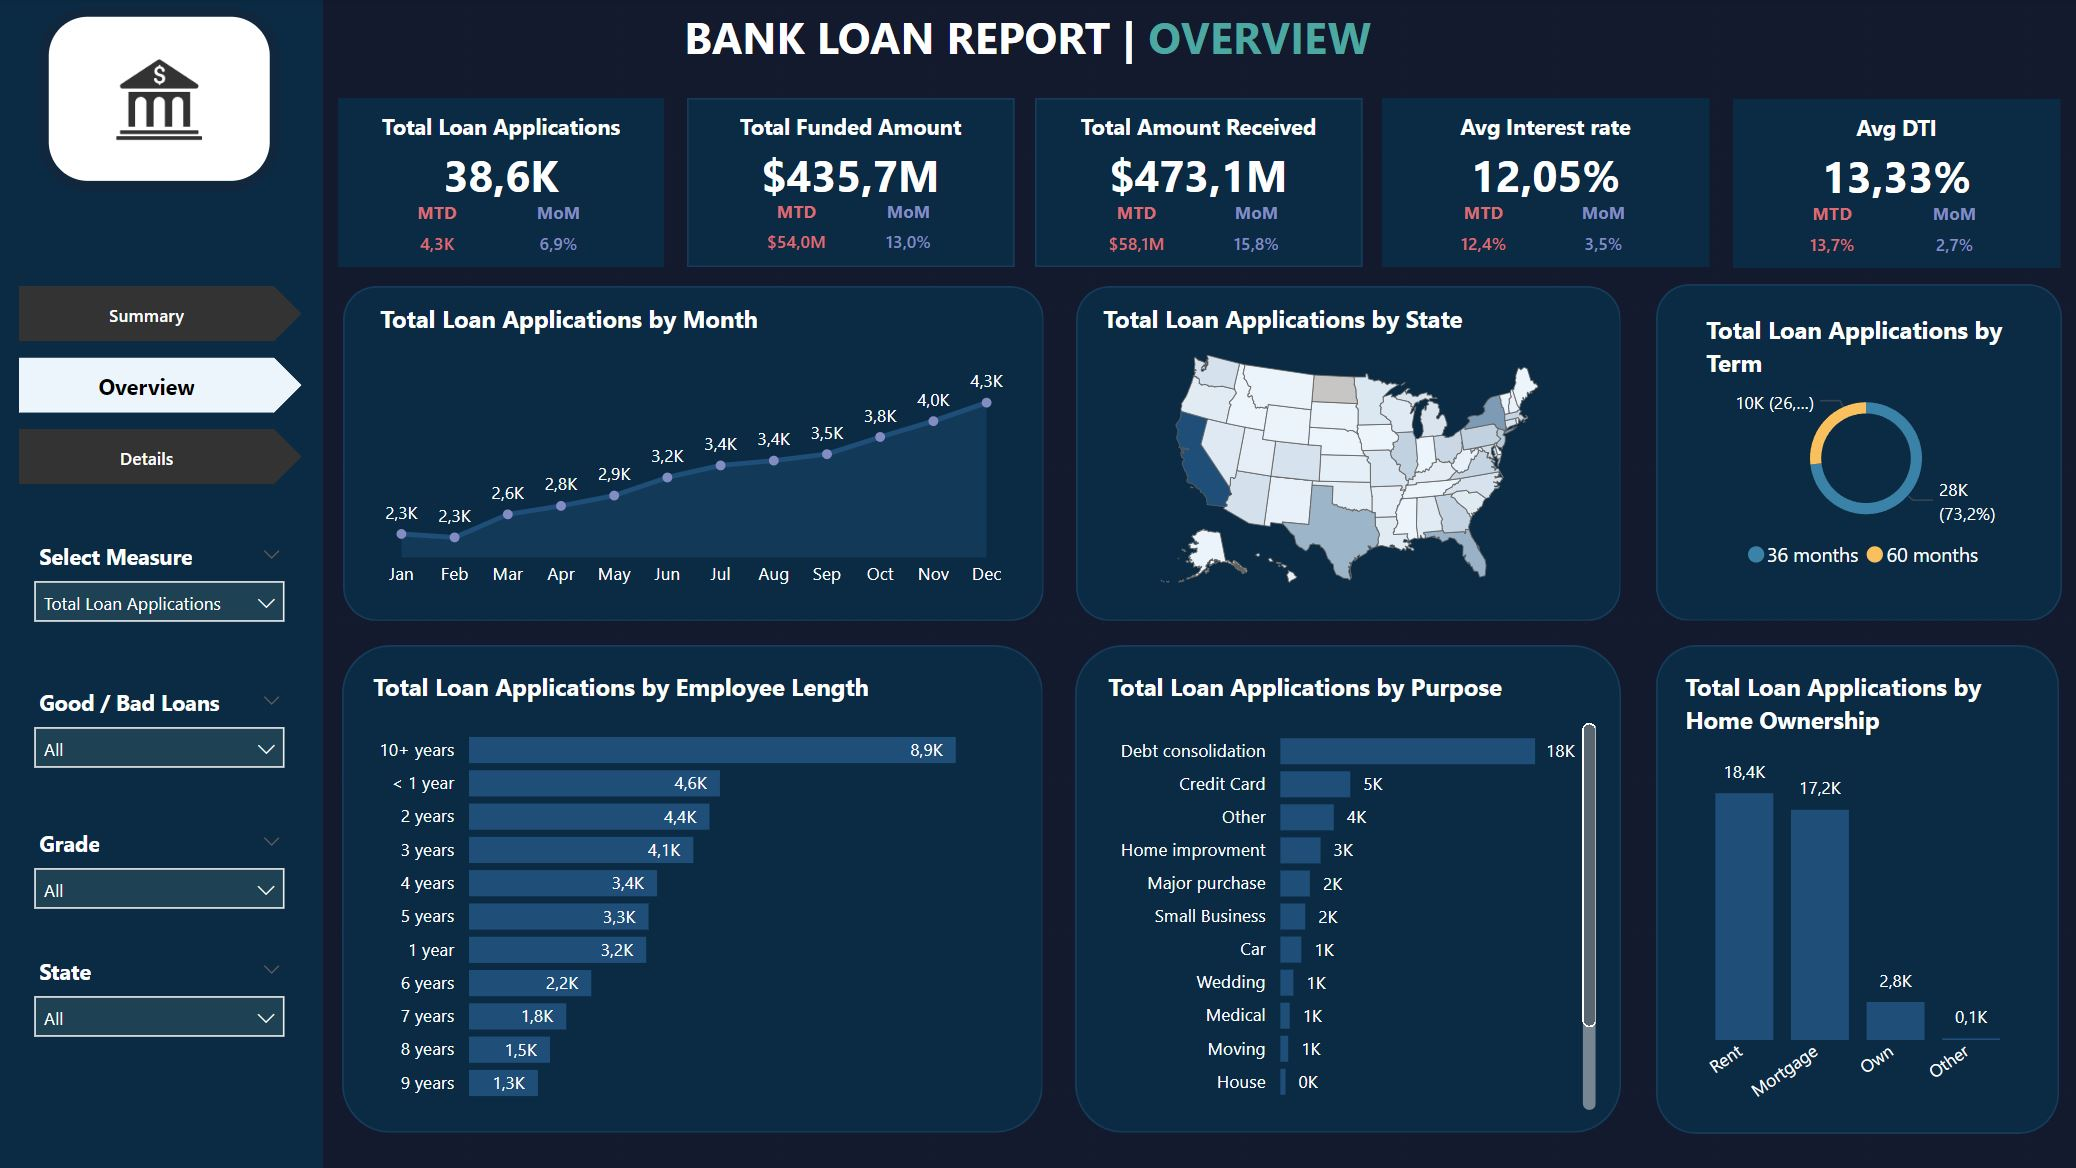

The page's visual inventory and layout, read from the dashboard file:
{"tool":"powerbi","page":{"name":"Overview","canvas":[1280,720],"ordinal":1},"visuals":[{"type":"shape","title":"Total Loan Applications","box":[209.4,61.2,200.7,104.1],"z":0,"group":"g5"},{"type":"shape","title":"Total Loan Applications","box":[423.8,61.2,201.6,104.1],"z":0,"group":"g1"},{"type":"shape","title":"Total Loan Applications","box":[637.9,61.2,201.6,104.1],"z":0,"group":"g2"},{"type":"shape","title":"Total Loan Applications","box":[851.9,61.2,201.6,104.1],"z":0,"group":"g3"},{"type":"shape","title":"Total Loan Applications","box":[1067.7,61.4,201.6,104.1],"z":0,"group":"g4"},{"type":"shape","box":[212.3,176.6,431.4,206.2],"z":0},{"type":"shape","box":[0,0,200,720.6],"z":1000},{"type":"card","title":"Total Loan Applications","fields":{"Values":["bank_loan_data.Total Loan Applications"]},"box":[209.1,69.8,200.6,68.3],"z":1000,"group":"g5"},{"type":"card","title":"Total Funded Amount","fields":{"Values":["bank_loan_data.Total_Funded_Amount"]},"box":[423.9,69.8,201.2,68.3],"z":1000,"group":"g1"},{"type":"card","title":"Total Amount Received","fields":{"Values":["bank_loan_data.Total Amount Received"]},"box":[637.9,69.8,201.2,68.3],"z":1000,"group":"g2"},{"type":"card","title":"Avg Interest rate","fields":{"Values":["bank_loan_data.Average interest Rate"]},"box":[851.9,69.8,201.2,68.3],"z":1000,"group":"g3"},{"type":"card","title":"Avg DTI","fields":{"Values":["bank_loan_data.Average DTI"]},"box":[1067.8,69.9,201.2,68.3],"z":1000,"group":"g4"},{"type":"textbox","title":"BANK LOAN REPORT | SUMMARY","box":[417.2,0,445.5,46.8],"z":2000},{"type":"card","title":"MTD","fields":{"Values":["bank_loan_data.MTD Funded Amount"]},"box":[466.1,122.5,50,39.7],"z":2000,"group":"g1"},{"type":"card","title":"MTD","fields":{"Values":["bank_loan_data.MTD Loan Applications"]},"box":[249.3,123.3,41.9,38.7],"z":2000,"group":"g5"},{"type":"card","title":"MTD","fields":{"Values":["bank_loan_data.MTD Total Amount Received"]},"box":[678.1,123.3,45,38.7],"z":2000,"group":"g2"},{"type":"card","title":"MTD","fields":{"Values":["bank_loan_data.MTD Avg Interest rate"]},"box":[892.1,123.3,45,38.7],"z":2000,"group":"g3"},{"type":"card","title":"MTD","fields":{"Values":["bank_loan_data.MTD Avg DTI"]},"box":[1107.9,123.5,42.1,38.7],"z":2000,"group":"g4"},{"type":"group","id":"g1","title":"Total Loan Applications ","box":[423.8,61.2,201.6,104.1],"z":3000},{"type":"card","title":"MoM","fields":{"Values":["bank_loan_data.MoM Total Funded Amount"]},"box":[537.6,122.5,45,39.7],"z":3000,"group":"g1"},{"type":"card","title":"MoM","fields":{"Values":["bank_loan_data.MoM Loan Applications"]},"box":[322.6,123.4,45,38.7],"z":3000,"group":"g5"},{"type":"card","title":"MoM","fields":{"Values":["bank_loan_data.MoM Total Amount Received"]},"box":[751.7,123.4,45,38.7],"z":3000,"group":"g2"},{"type":"card","title":"MoM","fields":{"Values":["bank_loan_data.MoM Avg Interest Rate"]},"box":[965.7,123.4,45,38.7],"z":3000,"group":"g3"},{"type":"card","title":"MoM","fields":{"Values":["bank_loan_data.MoM Avg DTI"]},"box":[1181.5,123.6,45,38.7],"z":3000,"group":"g4"},{"type":"group","id":"g2","title":"Total Loan Applications ","box":[637.9,61.2,201.6,104.1],"z":4000},{"type":"group","id":"g3","title":"Total Loan Applications ","box":[851.9,61.2,201.6,104.1],"z":5000},{"type":"group","id":"g4","title":"Total Loan Applications ","box":[1067.7,61.4,201.6,104.1],"z":6000},{"type":"group","id":"g5","title":"Total Loan Applications ","box":[209.1,61.2,200.9,104.1],"z":7000},{"type":"slicer","fields":{"Values":["bank_loan_data.address_state"]},"box":[12.6,584.6,174.1,72.8],"z":8000},{"type":"slicer","fields":{"Values":["bank_loan_data.grade"]},"box":[12.6,505.8,174.1,72.8],"z":9000},{"type":"shape","box":[663.4,176.6,335.4,206.2],"z":11000},{"type":"shape","box":[1020.3,175.4,249.8,207.4],"z":12000},{"type":"areaChart","fields":{"Y":["bank_loan_data.Total Loan Applications"],"Category":["Date Table.Month"]},"box":[230.2,186.5,396.3,185.2],"z":13000},{"type":"shapeMap","title":"Total Loan Applications by State","fields":{"Value":["bank_loan_data.Total Loan Applications"],"Category":["bank_loan_data.address_state"]},"box":[675.1,186.5,313.2,185.2],"z":14000},{"type":"slicer","fields":{"Values":["Select Measure.Select Measure"]},"box":[12.3,329.2,174.2,62.2],"z":15000},{"type":"donutChart","title":"Total Loan Applications by Term","fields":{"Y":["bank_loan_data.Total Loan Applications"],"Category":["bank_loan_data.term"]},"box":[1046.2,193.2,206.8,166.8],"z":16000},{"type":"shape","box":[211.7,397.5,431.4,300.3],"z":17000},{"type":"shape","box":[662.8,397.5,336,300.3],"z":18000},{"type":"shape","box":[1020.3,397.5,248,300.9],"z":19000},{"type":"barChart","title":"Total Loan Applications by Employee Length","fields":{"Y":["bank_loan_data.Total Loan Applications"],"Category":["bank_loan_data.emp_length"]},"box":[225.8,412.9,389.5,275.7],"z":20000},{"type":"barChart","title":"Total Loan Applications by Purpose","fields":{"Y":["bank_loan_data.Total Loan Applications"],"Category":["bank_loan_data.Purpose - Caps"]},"box":[678.2,412.9,310.2,275.7],"z":21000},{"type":"columnChart","title":"Total Loan Applications by Home Ownership","fields":{"Y":["bank_loan_data.Total Loan Applications"],"Category":["bank_loan_data.home_ownership_GoodCaps"]},"box":[1033.2,412.9,224,275.7],"z":22000},{"type":"slicer","fields":{"Values":["bank_loan_data.Good Loan v Bad Loan"]},"box":[12.3,419.1,174.2,73.2],"z":23000},{"type":"image","box":[25.2,4.9,148.3,113.2],"z":23002},{"type":"pageNavigator","box":[12.9,176.6,174.2,122.5],"z":23003}]}

Visuals, with their boxes in screenshot pixels (x1, y1, x2, y2), scaled from the page's 1280x720 canvas onto the 2076x1168 screenshot:
"Total Loan Applications" shape: left=340, top=99, right=665, bottom=268
"Total Loan Applications" shape: left=687, top=99, right=1014, bottom=268
"Total Loan Applications" shape: left=1035, top=99, right=1362, bottom=268
"Total Loan Applications" shape: left=1382, top=99, right=1709, bottom=268
"Total Loan Applications" shape: left=1732, top=100, right=2059, bottom=268
shape: left=344, top=286, right=1044, bottom=621
shape: left=0, top=0, right=324, bottom=1167
"Total Loan Applications" card: left=339, top=113, right=664, bottom=224
"Total Funded Amount" card: left=688, top=113, right=1014, bottom=224
"Total Amount Received" card: left=1035, top=113, right=1361, bottom=224
"Avg Interest rate" card: left=1382, top=113, right=1708, bottom=224
"Avg DTI" card: left=1732, top=113, right=2058, bottom=224
"BANK LOAN REPORT | SUMMARY" textbox: left=677, top=0, right=1399, bottom=76
"MTD" card: left=756, top=199, right=837, bottom=263
"MTD" card: left=404, top=200, right=472, bottom=263
"MTD" card: left=1100, top=200, right=1173, bottom=263
"MTD" card: left=1447, top=200, right=1520, bottom=263
"MTD" card: left=1797, top=200, right=1865, bottom=263
"Total Loan Applications " group: left=687, top=99, right=1014, bottom=268
"MoM" card: left=872, top=199, right=945, bottom=263
"MoM" card: left=523, top=200, right=596, bottom=263
"MoM" card: left=1219, top=200, right=1292, bottom=263
"MoM" card: left=1566, top=200, right=1639, bottom=263
"MoM" card: left=1916, top=201, right=1989, bottom=263
"Total Loan Applications " group: left=1035, top=99, right=1362, bottom=268
"Total Loan Applications " group: left=1382, top=99, right=1709, bottom=268
"Total Loan Applications " group: left=1732, top=100, right=2059, bottom=268
"Total Loan Applications " group: left=339, top=99, right=665, bottom=268
slicer - bank_loan_data.address_state: left=20, top=948, right=303, bottom=1066
slicer - bank_loan_data.grade: left=20, top=821, right=303, bottom=939
shape: left=1076, top=286, right=1620, bottom=621
shape: left=1655, top=285, right=2060, bottom=621
areaChart - bank_loan_data.Total Loan Applications x Date Table.Month: left=373, top=303, right=1016, bottom=603
"Total Loan Applications by State" shapeMap: left=1095, top=303, right=1603, bottom=603
slicer - Select Measure.Select Measure: left=20, top=534, right=302, bottom=635
"Total Loan Applications by Term" donutChart: left=1697, top=313, right=2032, bottom=584
shape: left=343, top=645, right=1043, bottom=1132
shape: left=1075, top=645, right=1620, bottom=1132
shape: left=1655, top=645, right=2057, bottom=1133
"Total Loan Applications by Employee Length" barChart: left=366, top=670, right=998, bottom=1117
"Total Loan Applications by Purpose" barChart: left=1100, top=670, right=1603, bottom=1117
"Total Loan Applications by Home Ownership" columnChart: left=1676, top=670, right=2039, bottom=1117
slicer - bank_loan_data.Good Loan v Bad Loan: left=20, top=680, right=302, bottom=799
image: left=41, top=8, right=281, bottom=192
pageNavigator: left=21, top=286, right=303, bottom=485
